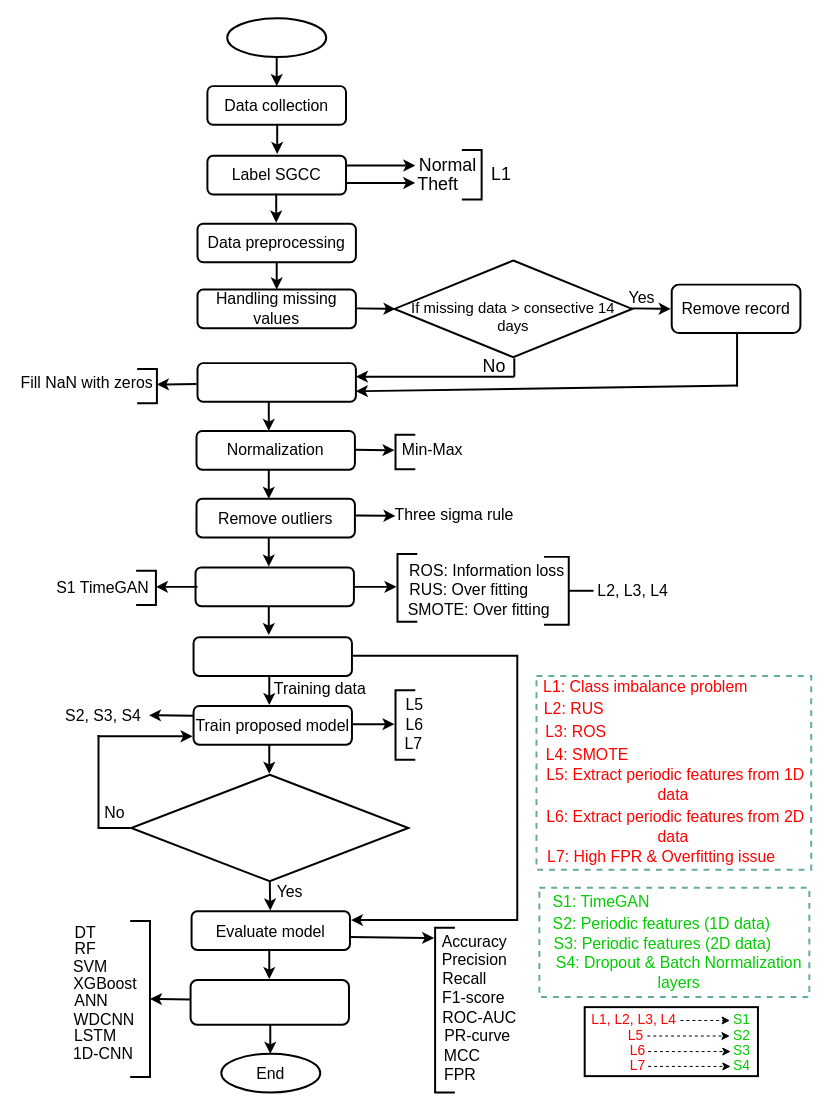
Image size: 836x1110. Some labels were removed from this diagram. The shapes that lost their labels are listed below. From the top down, each one's centre as x and y in pixels, then its label:
At point (276, 37): "start".
At point (276, 382): "Simpe imputer".
At point (274, 586): "Handle class imbalance".
At point (272, 656): "Data spilting".
At point (269, 827): "Model achieved required results".
At point (269, 1002): "Comparision with base models".
